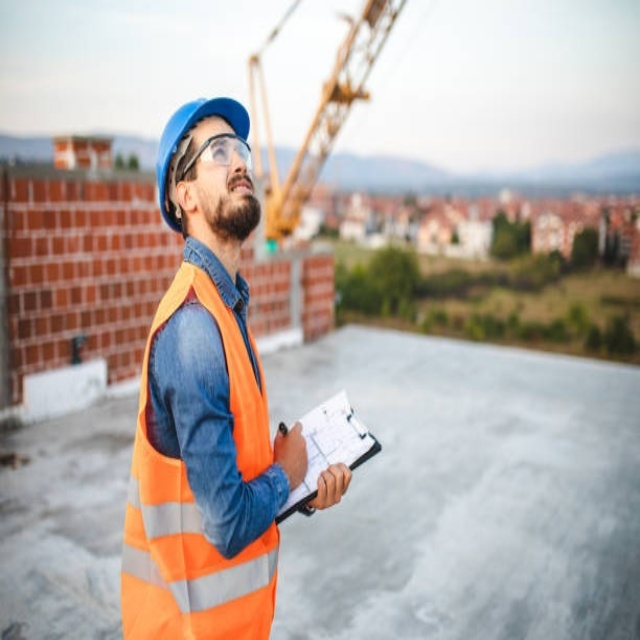Gafas: (177, 135, 255, 184)
Sin_guantes: (271, 420, 309, 495), (304, 461, 352, 511)
Sin_mascara: (218, 173, 259, 212)
